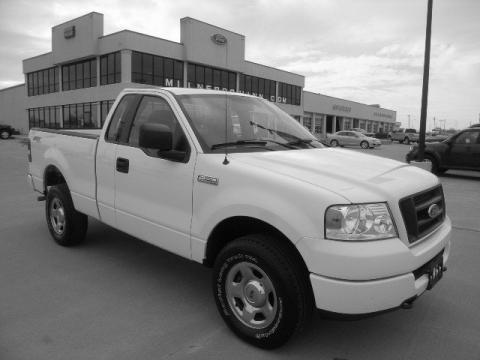car: (28, 89, 452, 345)
